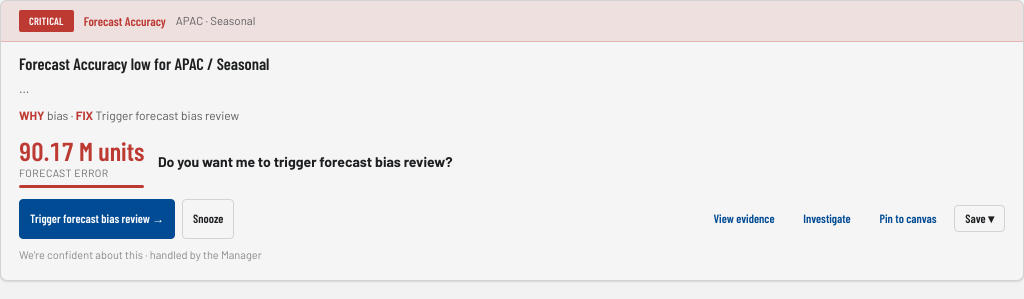
it: DecisionPromptCard — pin to canvas › pins the bound evidence SQL as a canvas tile via /sql/preview (no LLM)
This screenshot has width=1024, height=299.
Step 1. Click the button with class "dpc__pin" → x=908, y=219, box [868,199,948,239]
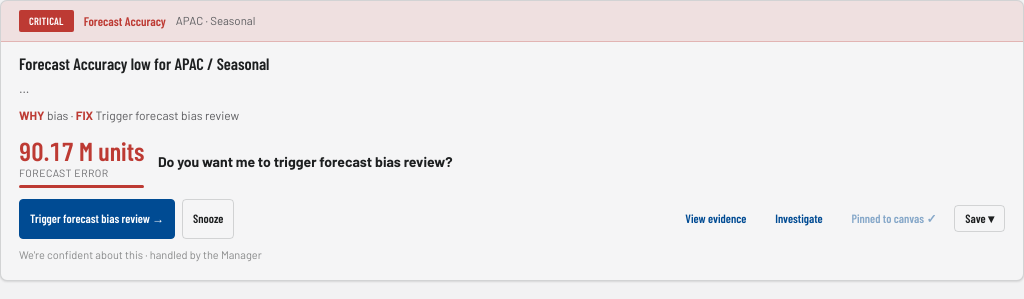
Now the button with class "dpc__pin" shows "Pinned", box [840,199,948,239]
